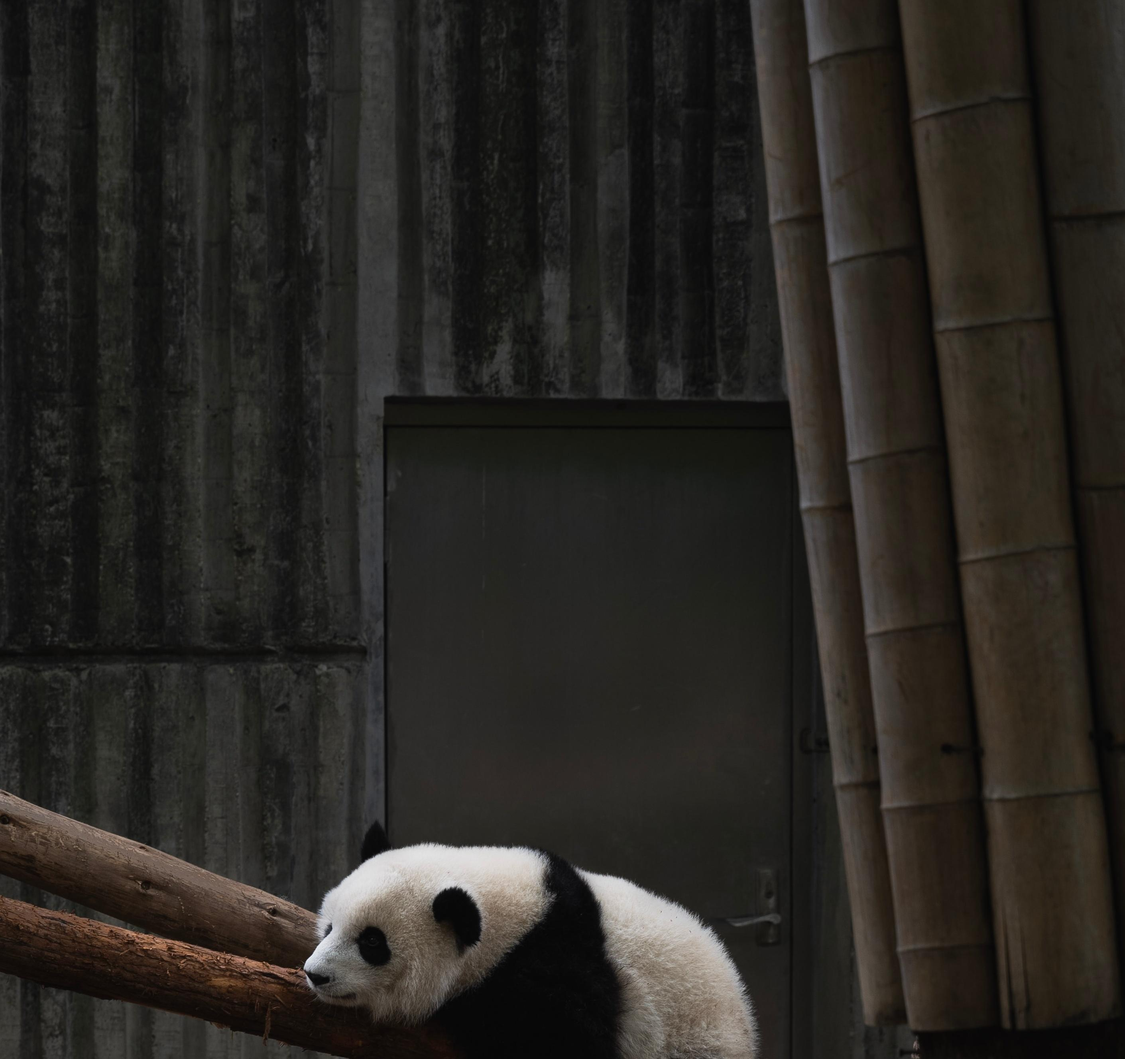panda: (307, 818, 763, 1059)
